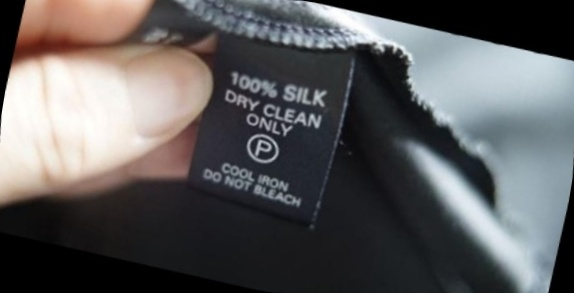dry_clean_any_solvent_except_trichloroethylene: (241, 126, 287, 170)
